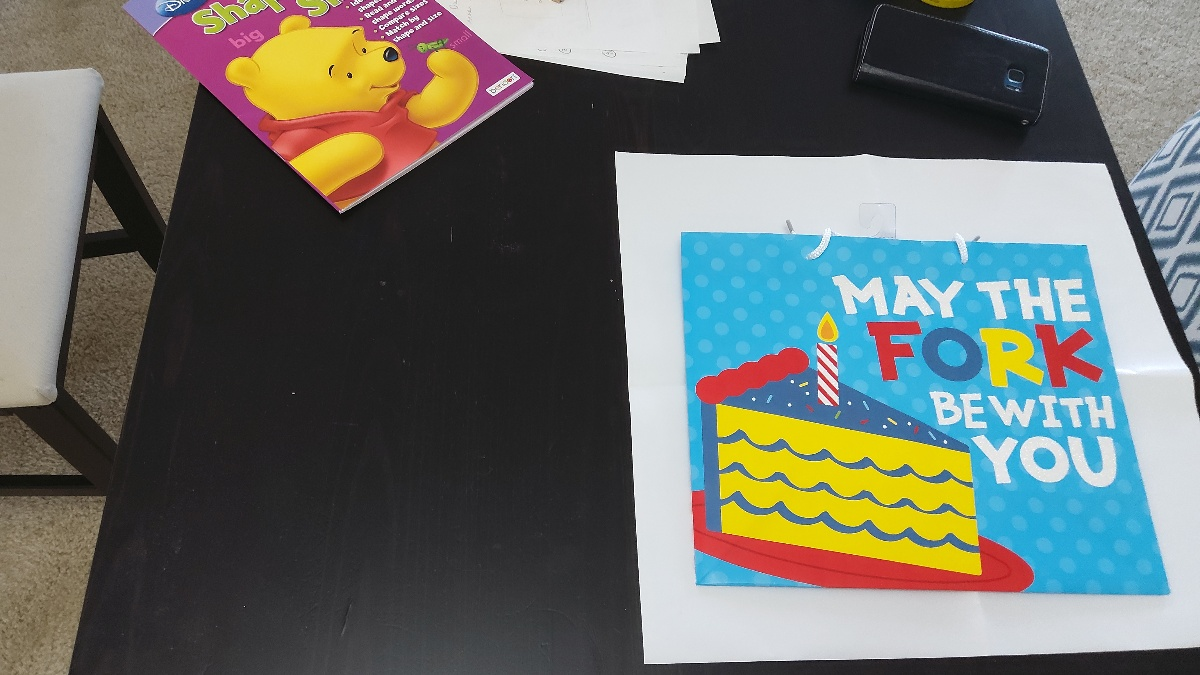paper_bag: (684, 235, 1140, 595)
